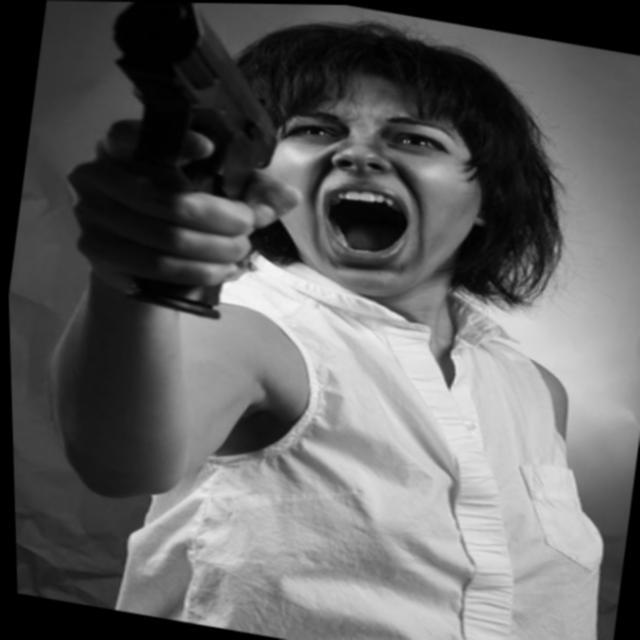weapon: (66, 1, 302, 326)
